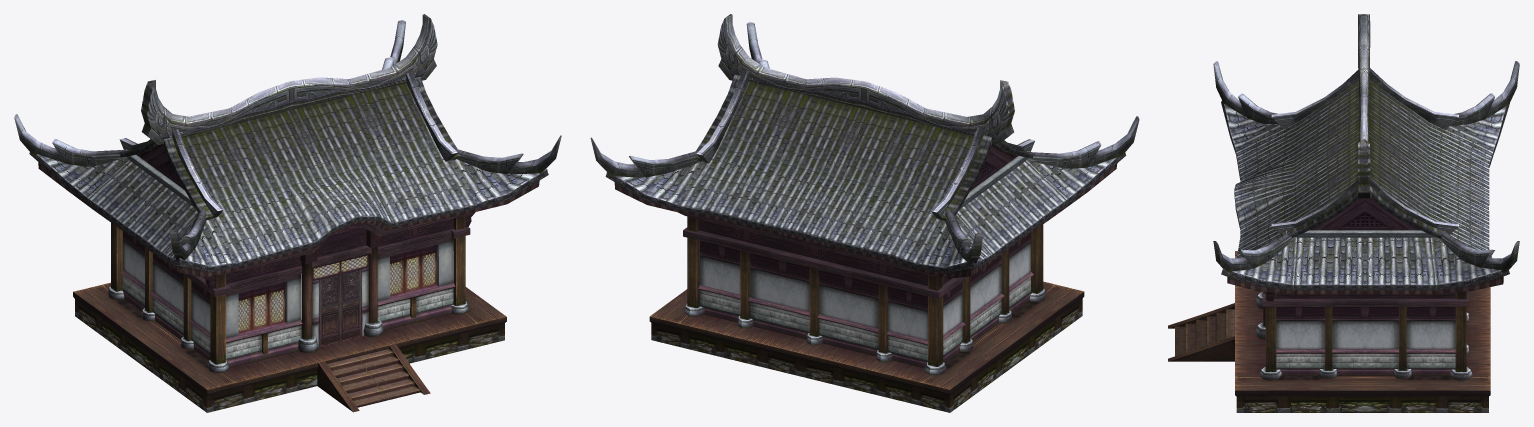
The model's file is xcz_jz_04.FBX.
3 renders of one model, left to right at view 1: azimuth 30°, elevation 25°; view 2: azimuth 150°, elevation 25°; view 3: azimuth 270°, elevation 25°, orthographic. The views are drawn at different scales.
Visible parts, largest first — view 1: XCZ_jz_04; view 2: XCZ_jz_04; view 3: XCZ_jz_04.
Boxes of the visible parts, left/top/right/bottom form: XCZ_jz_04: left=14, top=14, right=561, bottom=412; XCZ_jz_04: left=590, top=14, right=1139, bottom=412; XCZ_jz_04: left=1168, top=14, right=1519, bottom=412.
Bounding box in the file's own units: 1976 × 1351 × 1610.
